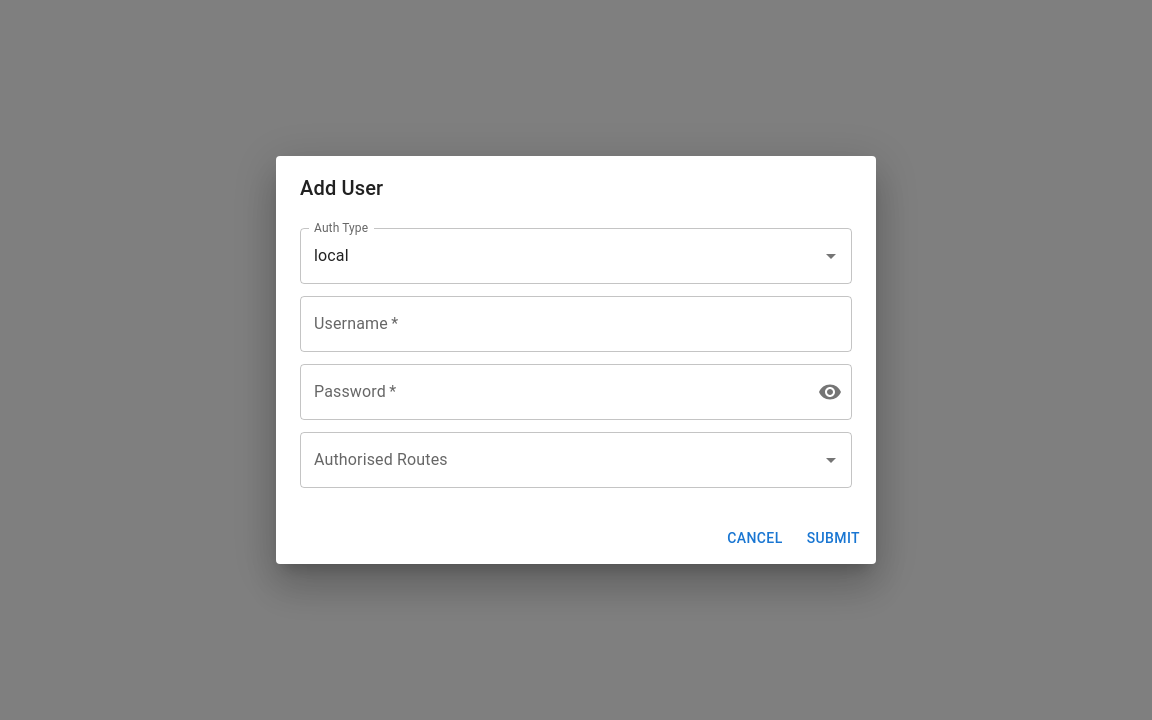
it: userDialogue › add dialog › displays required error when username is empty
Click the button "Submit". click: (833, 538)
box: [799, 520, 868, 556]
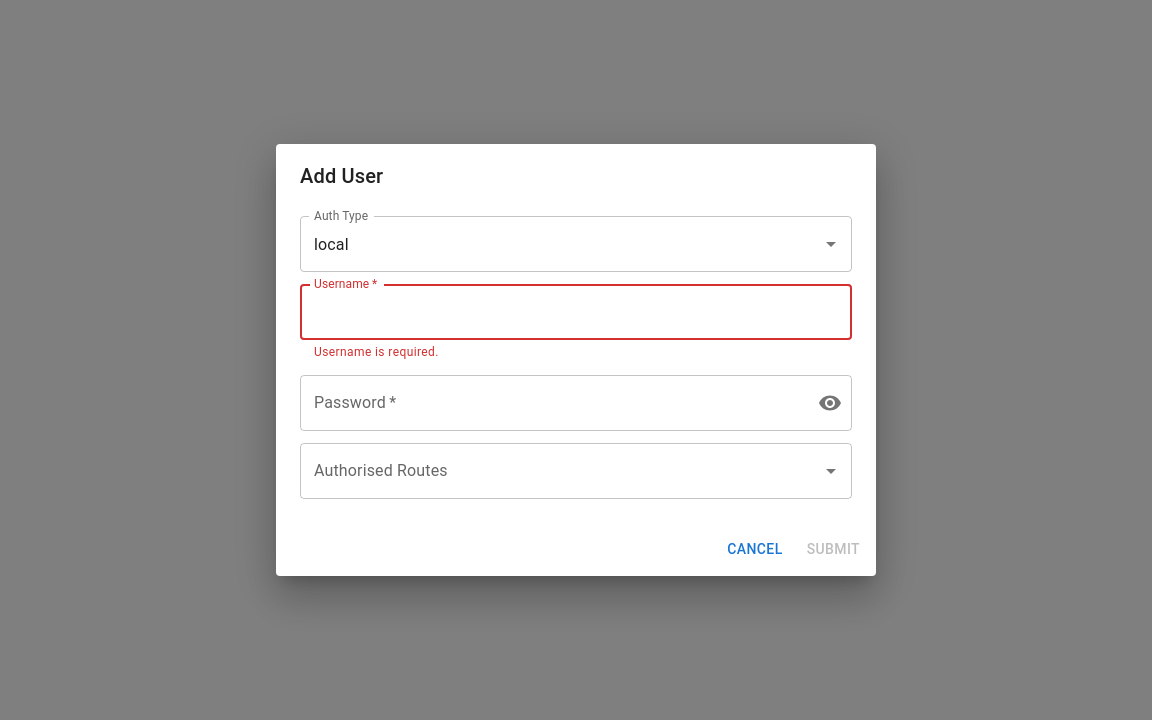
Now the text "Username is required." is shown, box [314, 345, 439, 359]
